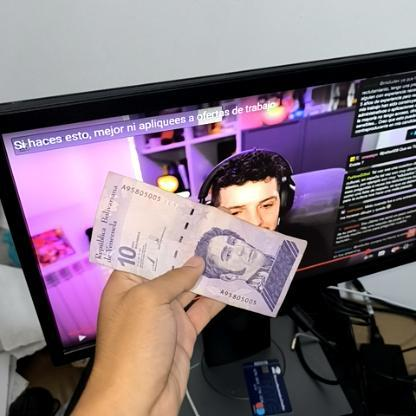vef_front: (86, 171, 308, 320)
